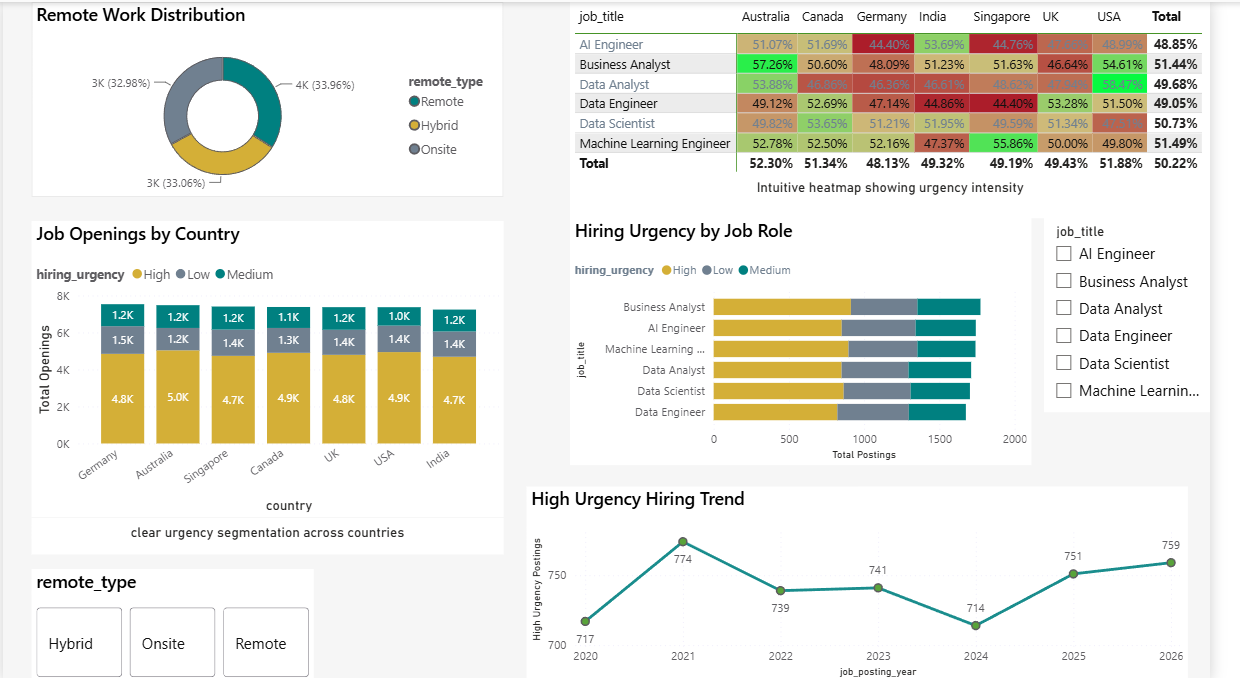

Layout of this report page (visuals, bound fields, positions):
{"tool":"powerbi","page":{"name":"Urgency & Opportunity","canvas":[1280,720],"ordinal":3},"visuals":[{"type":"barChart","title":"Hiring Urgency by Job Role","fields":{"Category":["AI Job Market Dataset.job_title"],"Series":["AI Job Market Dataset.hiring_urgency"],"Y":["AI Job Market Dataset.Total Postings"]},"box":[600.9,229.2,489.2,261.9],"z":0},{"type":"columnChart","title":"Job Openings by Country","fields":{"Category":["AI Job Market Dataset.country"],"Series":["AI Job Market Dataset.hiring_urgency"],"Y":["AI Job Market Dataset.Total Openings"]},"box":[30.8,233,500.7,313.9],"z":1000},{"type":"donutChart","title":"Remote Work Distribution","fields":{"Category":["AI Job Market Dataset.remote_type"],"Y":["AI Job Market Dataset.Total Postings"]},"box":[30.8,0,500.7,206.1],"z":2000},{"type":"pivotTable","fields":{"Rows":["AI Job Market Dataset.job_title"],"Columns":["AI Job Market Dataset.country"],"Values":["AI Job Market Dataset.% High Urgency"]},"box":[600.7,0,680.1,186.2],"z":3000},{"type":"lineChart","title":"High Urgency Hiring Trend","fields":{"Category":["AI Job Market Dataset.job_posting_year"],"Y":["AI Job Market Dataset.High Urgency Postings"]},"box":[555.4,513.3,701.1,207.3],"z":4000},{"type":"slicer","fields":{"Values":["AI Job Market Dataset.job_title"]},"box":[1103.5,229.2,177.2,206.1],"z":5000},{"type":"advancedSlicerVisual","fields":{"Values":["AI Job Market Dataset.remote_type"]},"box":[30.8,600.7,299.6,119.8],"z":7000},{"type":"textbox","box":[601.3,181.3,679.2,47.7],"z":8000},{"type":"textbox","box":[30.8,546.9,500.7,38.5],"z":9000}]}

Visuals, with their boxes in screenshot pixels (x1, y1, x2, y2), scaled from the page's 1280x720 canvas onto the 1240x678 screenshot:
"Hiring Urgency by Job Role" barChart: detection(582, 216, 1056, 462)
"Job Openings by Country" columnChart: detection(30, 219, 515, 515)
"Remote Work Distribution" donutChart: detection(30, 0, 515, 194)
pivotTable - AI Job Market Dataset.job_title x AI Job Market Dataset.country: detection(582, 0, 1239, 175)
"High Urgency Hiring Trend" lineChart: detection(538, 483, 1217, 677)
slicer - AI Job Market Dataset.job_title: detection(1069, 216, 1239, 410)
advancedSlicerVisual - AI Job Market Dataset.remote_type: detection(30, 566, 320, 677)
textbox: detection(583, 171, 1239, 216)
textbox: detection(30, 515, 515, 551)
